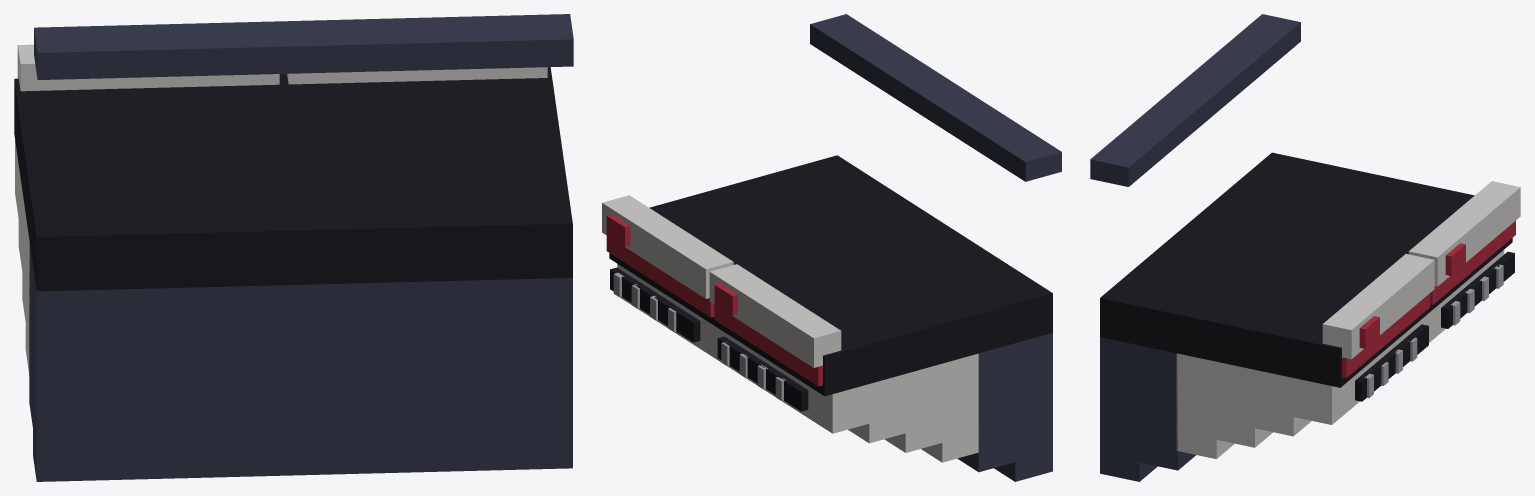
File: canopy.slope2.deck.cut.glb
The picture shows the model from 3 angles, left to right: view 1: azimuth 30°, elevation 25°; view 2: azimuth 150°, elevation 25°; view 3: azimuth 270°, elevation 25°; orthographic projection. The views are drawn at different scales.
Visible parts, largest first — view 1: canopy.slope2.deck.cut; view 2: canopy.slope2.deck.cut; view 3: canopy.slope2.deck.cut.
Part boxes in pixels (x1,y1,x2,y2): canopy.slope2.deck.cut: (14, 14, 573, 481); canopy.slope2.deck.cut: (602, 14, 1061, 481); canopy.slope2.deck.cut: (1090, 14, 1520, 481).
Size of the model in its own units: 2.74 by 2 by 2.5.
